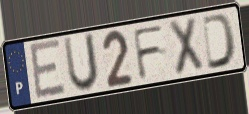2: (101, 28, 135, 91)
D: (201, 12, 238, 72)
E: (27, 37, 68, 103)
F: (131, 23, 167, 83)
U: (61, 31, 101, 94)
X: (167, 15, 206, 79)
